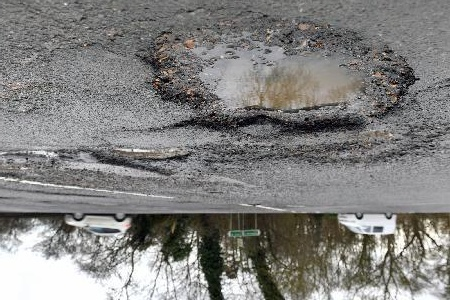pothole: (143, 17, 418, 137), (90, 142, 193, 177)
